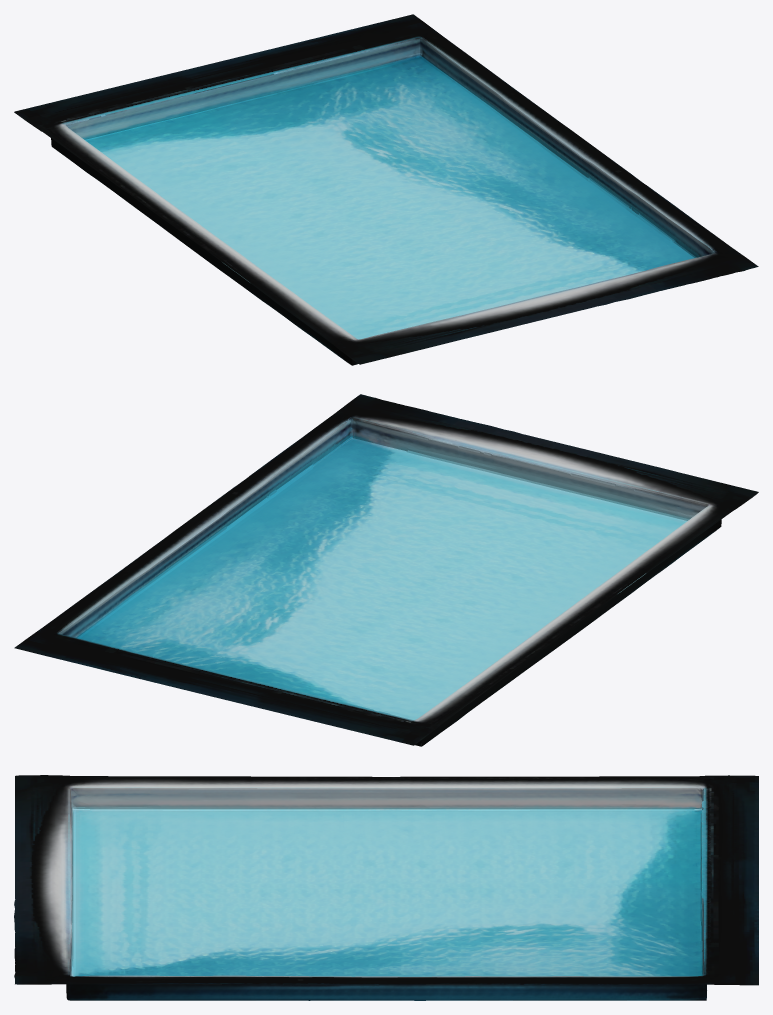
The model's file is pool.glb.
3 renders of one model, top to bottom at view 1: azimuth 30°, elevation 25°; view 2: azimuth 150°, elevation 25°; view 3: azimuth 270°, elevation 25°, orthographic. The views are drawn at different scales.
Parts seen in each view (by area): view 1: world; view 2: world; view 3: world.
Boxes of the visible parts, left/top/right/bottom form: world: left=14, top=14, right=758, bottom=365; world: left=14, top=394, right=758, bottom=746; world: left=14, top=775, right=758, bottom=1000.
Size of the model in its own units: 0.4671 by 0.0286 by 0.7009.
Materials: 1 (1 with a texture image).
